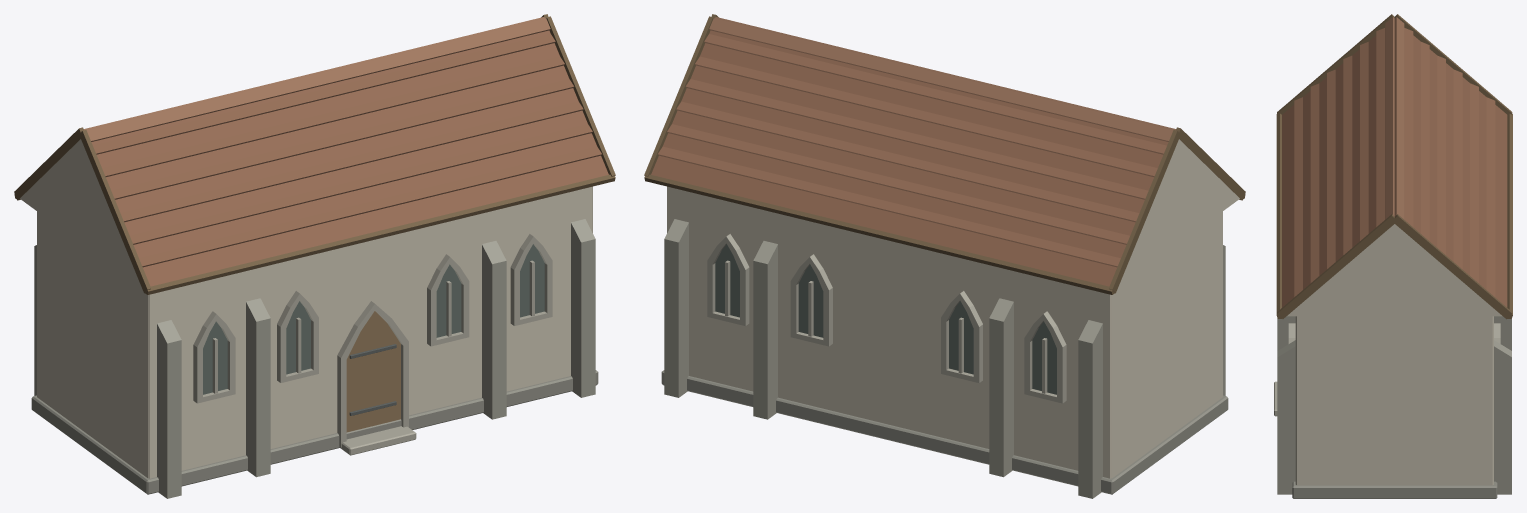
The model's file is monastery_wing.glb.
3 views of the same model, side by side, from view 1: azimuth 30°, elevation 25°; view 2: azimuth 150°, elevation 25°; view 3: azimuth 270°, elevation 25° (orthographic). The views are drawn at different scales.
Visible parts, largest first — view 1: monastery_wing_fort_roof, monastery_wing_settlement_lime, monastery_wing_fort_masonry, monastery_wing_fort_stone_light, monastery_wing_oak_dark, monastery_wing_fort_stone_dark, monastery_wing_fort_roof_light, monastery_wing_settlement_glass, monastery_wing_oak; view 2: monastery_wing_fort_roof, monastery_wing_settlement_lime, monastery_wing_fort_masonry, monastery_wing_fort_stone_light, monastery_wing_fort_stone_dark, monastery_wing_oak_dark, monastery_wing_fort_roof_light, monastery_wing_settlement_glass; view 3: monastery_wing_fort_roof, monastery_wing_settlement_lime, monastery_wing_oak_dark, monastery_wing_fort_masonry, monastery_wing_fort_roof_light, monastery_wing_fort_stone_dark, monastery_wing_fort_stone_light.
Part boxes in pixels (x1,y1,x2,y2): monastery_wing_fort_roof: [20, 30, 608, 287]; monastery_wing_settlement_lime: [37, 186, 592, 478]; monastery_wing_fort_masonry: [34, 219, 595, 498]; monastery_wing_fort_stone_light: [193, 234, 552, 455]; monastery_wing_oak_dark: [14, 14, 615, 294]; monastery_wing_fort_stone_dark: [31, 370, 598, 494]; monastery_wing_fort_roof_light: [84, 17, 550, 141]; monastery_wing_settlement_glass: [203, 244, 544, 394]; monastery_wing_oak: [346, 311, 400, 432]; monastery_wing_fort_roof: [651, 30, 1239, 287]; monastery_wing_settlement_lime: [667, 186, 1222, 478]; monastery_wing_fort_masonry: [664, 219, 1225, 498]; monastery_wing_fort_stone_light: [707, 234, 1066, 403]; monastery_wing_fort_stone_dark: [661, 370, 1228, 494]; monastery_wing_oak_dark: [644, 14, 1245, 294]; monastery_wing_fort_roof_light: [709, 17, 1175, 141]; monastery_wing_settlement_glass: [715, 244, 1056, 394]; monastery_wing_fort_roof: [1282, 28, 1507, 316]; monastery_wing_settlement_lime: [1295, 316, 1493, 485]; monastery_wing_oak_dark: [1276, 14, 1512, 319]; monastery_wing_fort_masonry: [1277, 316, 1511, 494]; monastery_wing_fort_roof_light: [1385, 17, 1404, 219]; monastery_wing_fort_stone_dark: [1292, 481, 1497, 498]; monastery_wing_fort_stone_light: [1274, 323, 1500, 416].
Size of the model in its own units: 8.42 by 5.59 by 4.21.
